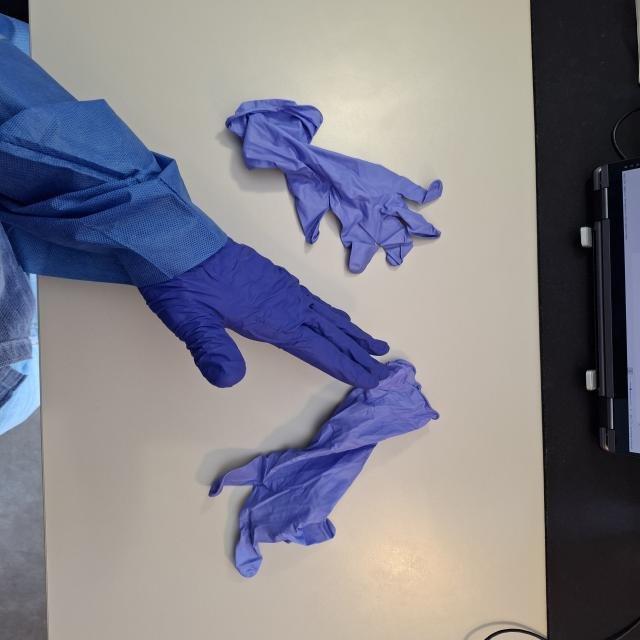glove_on: (133, 234, 395, 394)
